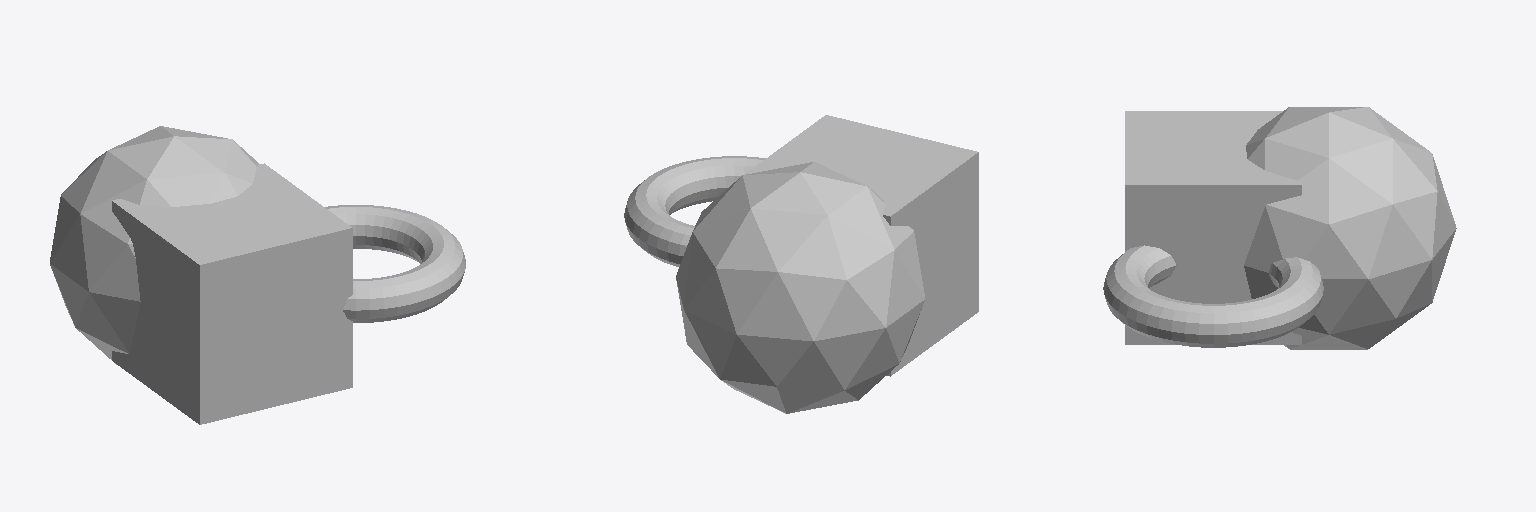
Rendered from blender.obj.
3 renders of one model, left to right at view 1: azimuth 30°, elevation 25°; view 2: azimuth 150°, elevation 25°; view 3: azimuth 270°, elevation 25°, orthographic.
Parts seen in each view (by area): view 1: Cube, Icosphere, Torus; view 2: Icosphere, Cube, Torus; view 3: Icosphere, Cube, Torus.
Part boxes in pixels (x1,y1,x2,y2): Cube: (112,163,352,424); Icosphere: (50,126,258,364); Torus: (325,205,465,322); Icosphere: (676,162,924,413); Cube: (744,115,978,376); Torus: (624,156,765,266); Icosphere: (1244,107,1456,349); Cube: (1125,111,1301,344); Torus: (1103,245,1323,347).
Bounding box in the file's own units: 4.25 × 2.89 × 4.